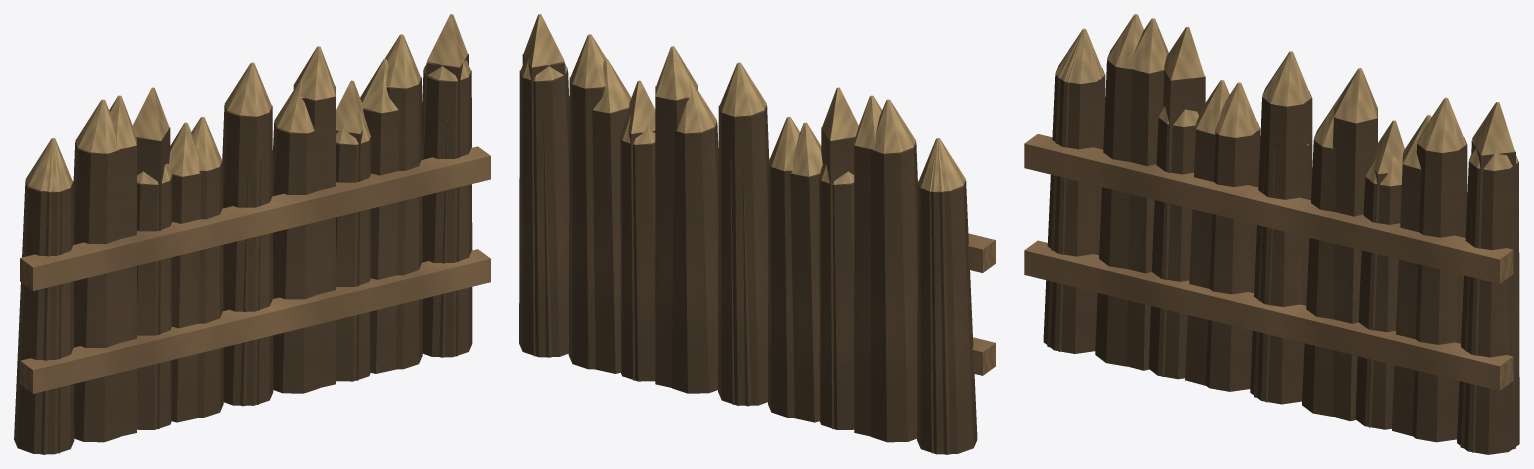
Rendered from Palisade.fbx.
3 renders of one model, left to right at view 1: azimuth 30°, elevation 25°; view 2: azimuth 150°, elevation 25°; view 3: azimuth 330°, elevation 25°, orthographic. The views are drawn at different scales.
Visible parts, largest first — view 1: PalisadeDetail0, PalisadeDetail1, PalisadeDetail2; view 2: PalisadeDetail0, PalisadeDetail1, PalisadeDetail2; view 3: PalisadeDetail0, PalisadeDetail1, PalisadeDetail2.
Part boxes in pixels (x1=…): PalisadeDetail0: x1=14, y1=34, x2=489, y2=454; PalisadeDetail1: x1=20, y1=46, x2=490, y2=454; PalisadeDetail2: x1=29, y1=14, x2=468, y2=453; PalisadeDetail0: x1=519, y1=34, x2=994, y2=454; PalisadeDetail1: x1=543, y1=46, x2=995, y2=454; PalisadeDetail2: x1=522, y1=14, x2=958, y2=453; PalisadeDetail0: x1=1026, y1=14, x2=1519, y2=454; PalisadeDetail1: x1=1024, y1=18, x2=1515, y2=449; PalisadeDetail2: x1=1058, y1=26, x2=1515, y2=452.
Size of the model in its own units: 345 by 237 by 44.5.
Materials: 1 (1 with a texture image).
